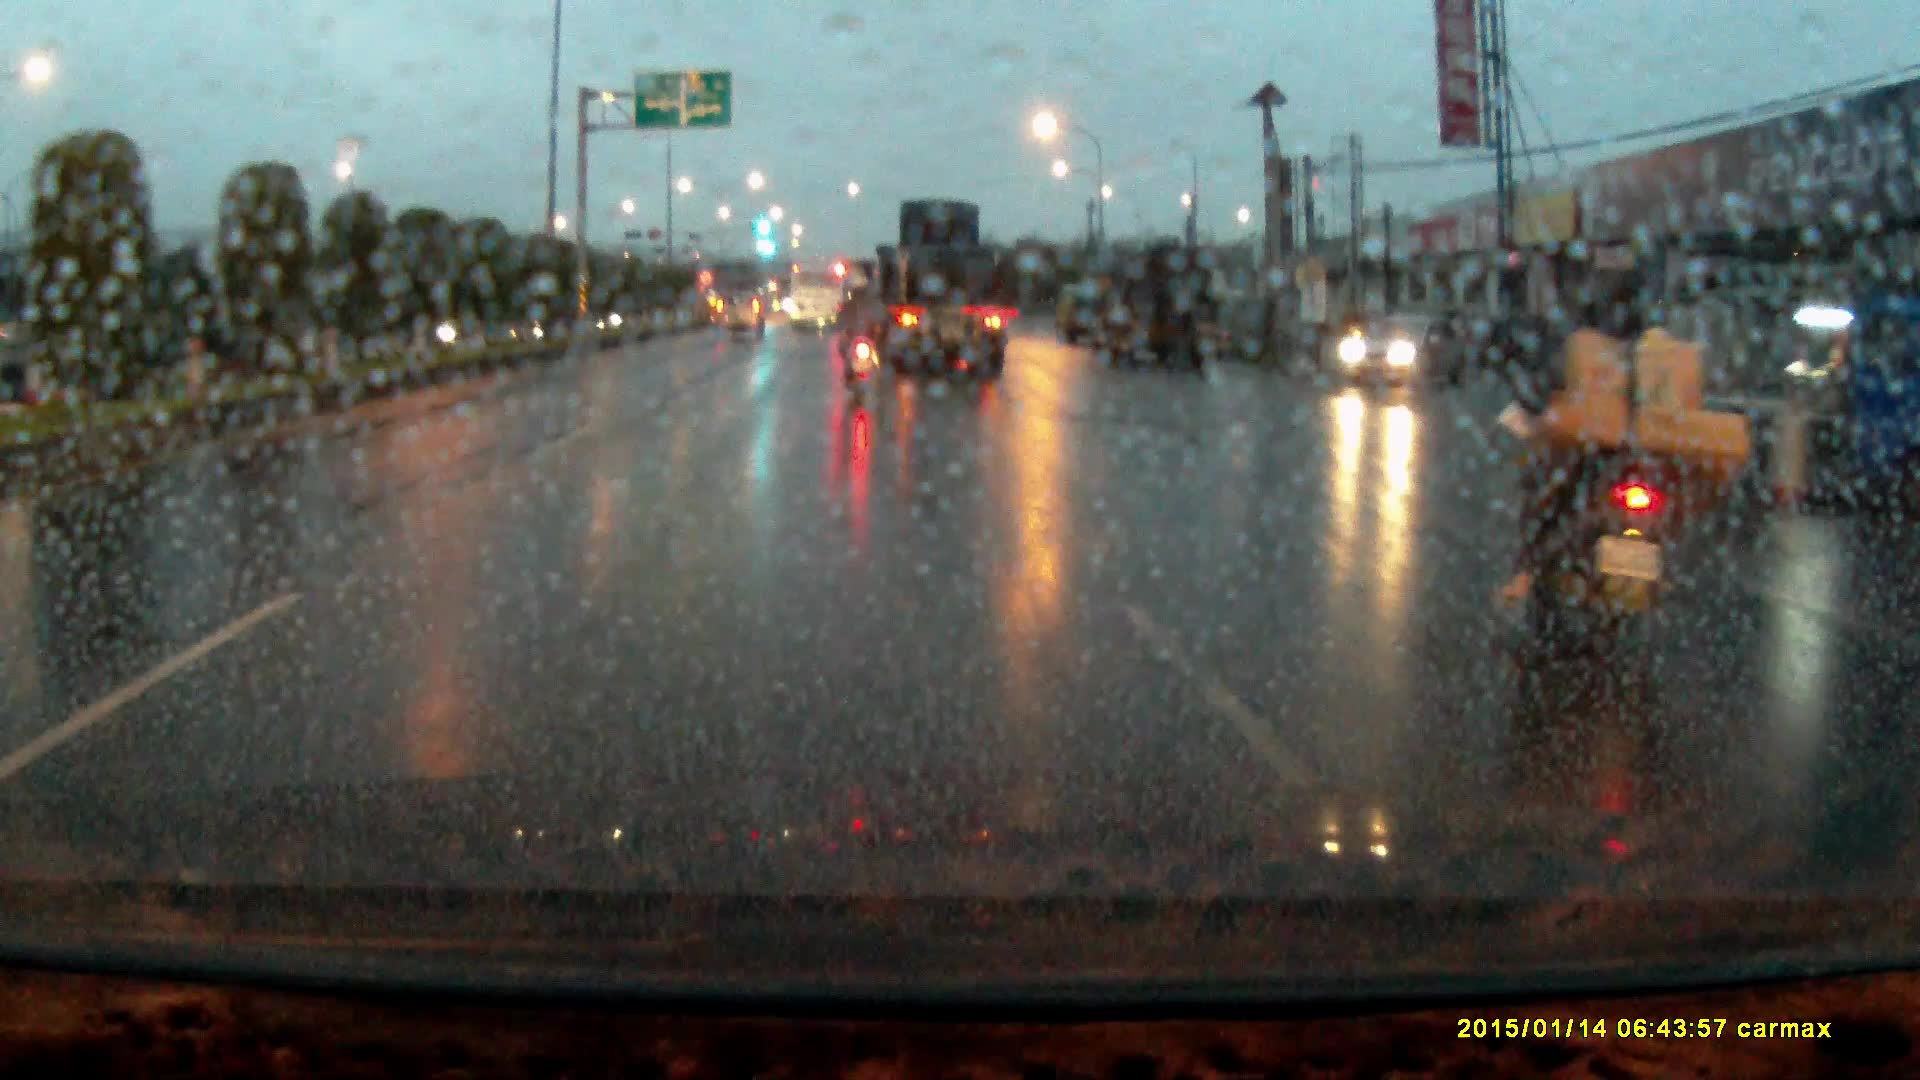rider: (1494, 249, 1772, 669), (835, 269, 890, 393)
vehicle: (1687, 287, 1920, 503), (864, 196, 1003, 374), (1099, 243, 1229, 370), (1336, 312, 1457, 387), (790, 262, 854, 331), (1055, 280, 1107, 341), (715, 286, 767, 337)
